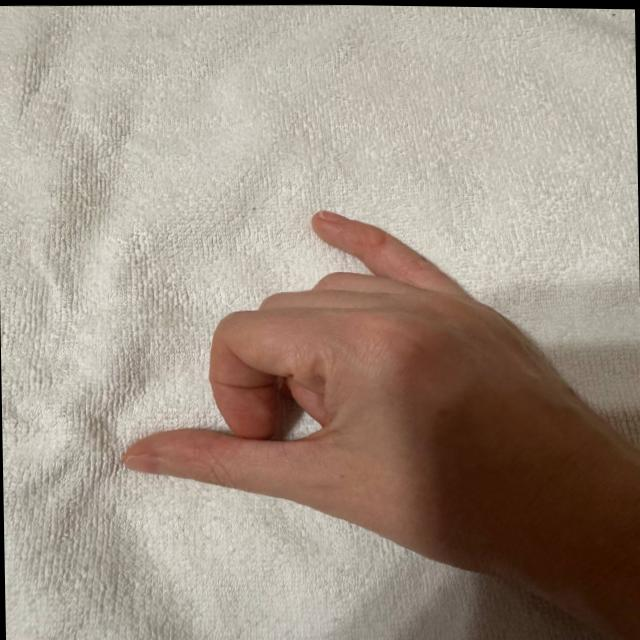u: (98, 183, 608, 540)
